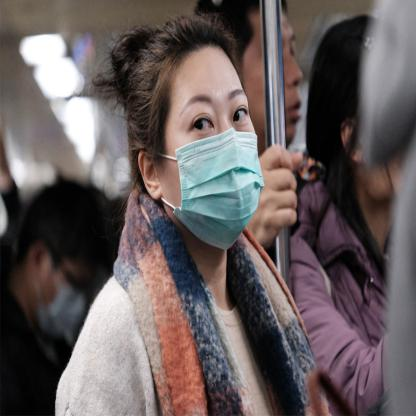Not_Wearing_Mask: (243, 26, 304, 148)
Wearing_Mask: (161, 82, 264, 252), (36, 262, 92, 345)
